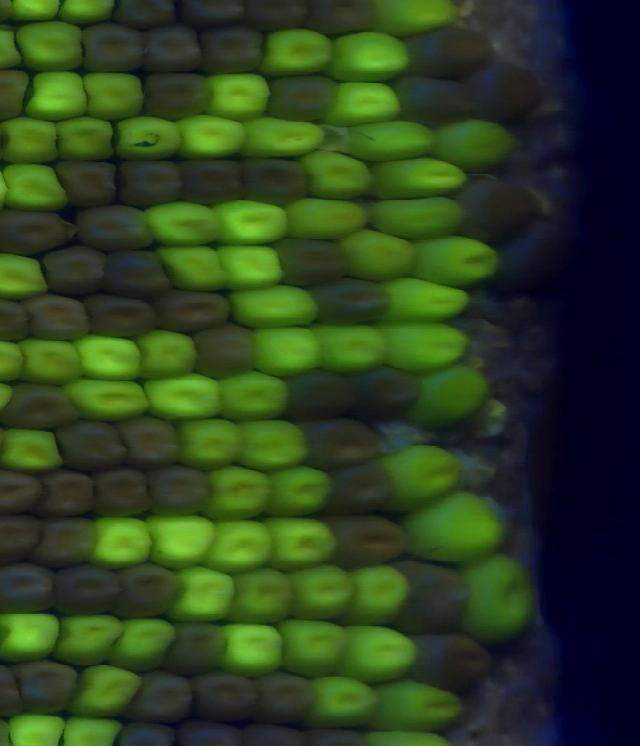fluorescent: (398, 487, 505, 570), (457, 549, 533, 641), (376, 444, 466, 515), (365, 673, 466, 732), (413, 351, 487, 431), (282, 189, 378, 247), (201, 512, 281, 578), (380, 316, 471, 374), (3, 15, 88, 75), (410, 232, 500, 288), (341, 113, 445, 161), (338, 621, 417, 684), (259, 511, 339, 573), (224, 277, 319, 329), (202, 464, 283, 524), (431, 117, 519, 172), (63, 371, 152, 425), (236, 414, 318, 472), (278, 617, 352, 681), (146, 505, 217, 571), (377, 272, 471, 321), (152, 241, 232, 298), (250, 324, 326, 384), (52, 605, 124, 668), (345, 561, 411, 629), (285, 564, 364, 620), (362, 194, 467, 236), (299, 144, 375, 202), (67, 662, 143, 719), (90, 512, 161, 573), (372, 152, 467, 197), (304, 670, 380, 726), (329, 32, 414, 82), (265, 458, 331, 522), (211, 196, 292, 248), (0, 604, 69, 665), (113, 612, 181, 673), (262, 24, 336, 80), (70, 332, 148, 385), (141, 200, 223, 250), (244, 112, 325, 162), (218, 622, 290, 678), (174, 564, 241, 624), (230, 565, 292, 629), (15, 332, 86, 387), (315, 321, 391, 372), (2, 159, 71, 215), (212, 241, 286, 293), (174, 418, 248, 470), (329, 76, 407, 125), (207, 68, 277, 122), (81, 70, 149, 125), (142, 376, 226, 420), (340, 229, 411, 281), (111, 112, 184, 162), (136, 326, 202, 381), (218, 369, 293, 417), (24, 65, 88, 121), (50, 114, 120, 164), (0, 424, 65, 476), (177, 115, 249, 161), (0, 111, 62, 164), (372, 1, 456, 37), (0, 250, 56, 303), (7, 710, 73, 746), (365, 725, 454, 746), (64, 717, 126, 746), (54, 1, 119, 28), (0, 336, 36, 381), (4, 1, 66, 21)
nonfluorescent: (480, 209, 570, 299), (389, 559, 475, 635), (404, 632, 495, 697), (456, 171, 536, 239), (305, 272, 397, 326), (178, 668, 265, 724), (406, 25, 495, 79), (391, 72, 478, 127), (114, 559, 184, 625), (187, 321, 259, 384), (323, 512, 406, 566), (298, 417, 375, 474), (271, 232, 350, 287), (31, 511, 103, 570), (53, 416, 130, 471), (113, 413, 187, 470), (0, 561, 69, 622), (16, 657, 85, 717), (469, 62, 542, 118), (18, 292, 98, 343), (279, 371, 365, 418), (166, 618, 228, 683), (71, 203, 158, 249), (80, 289, 160, 339), (267, 76, 341, 130), (321, 458, 395, 512), (0, 380, 80, 429), (253, 666, 317, 727), (237, 155, 312, 207), (0, 205, 79, 254), (118, 153, 184, 211), (101, 247, 174, 299), (353, 365, 424, 418), (55, 561, 122, 617), (124, 671, 193, 725), (42, 240, 107, 296), (151, 284, 230, 330), (50, 156, 121, 206), (196, 24, 265, 74), (140, 22, 205, 75), (93, 465, 157, 518), (175, 157, 247, 204), (79, 18, 145, 69), (147, 466, 211, 518), (145, 71, 212, 119), (35, 469, 96, 518), (301, 1, 384, 37), (236, 1, 315, 34), (0, 510, 42, 566), (109, 1, 182, 31), (0, 292, 36, 344), (115, 720, 186, 746), (0, 471, 43, 511), (183, 1, 249, 27), (179, 723, 253, 746), (0, 67, 32, 120)
